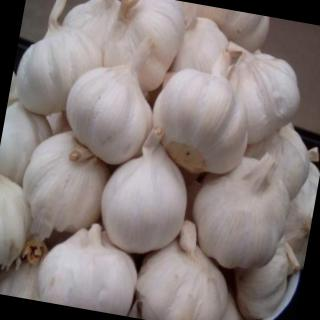Bawang Putih: (94, 121, 201, 262), (185, 150, 299, 278), (143, 65, 261, 186), (58, 57, 165, 173), (17, 125, 117, 240), (36, 217, 147, 319), (12, 17, 110, 124), (216, 47, 309, 152), (99, 1, 192, 97)
